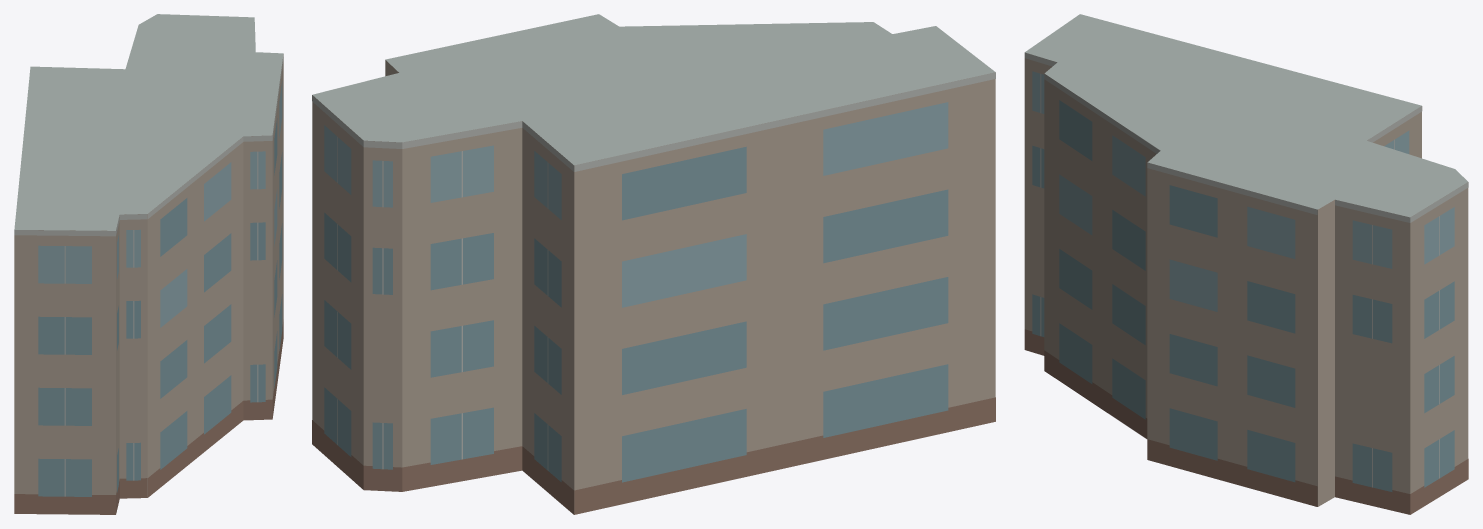
Rendered from survey-upis-33043757.glb.
The picture shows the model from 3 angles, left to right: view 1: azimuth 30°, elevation 25°; view 2: azimuth 150°, elevation 25°; view 3: azimuth 270°, elevation 25°; orthographic projection. The views are drawn at different scales.
Parts seen in each view (by area): view 1: survey-upis-33043757.tmp; view 2: survey-upis-33043757.tmp; view 3: survey-upis-33043757.tmp.
Part boxes in pixels (box(x1,y1,x2,y2)): survey-upis-33043757.tmp: box(14, 14, 283, 514); survey-upis-33043757.tmp: box(312, 14, 995, 514); survey-upis-33043757.tmp: box(1024, 14, 1468, 514).
Bounding box in the file's own units: 18.7 × 12.75 × 17.25.
